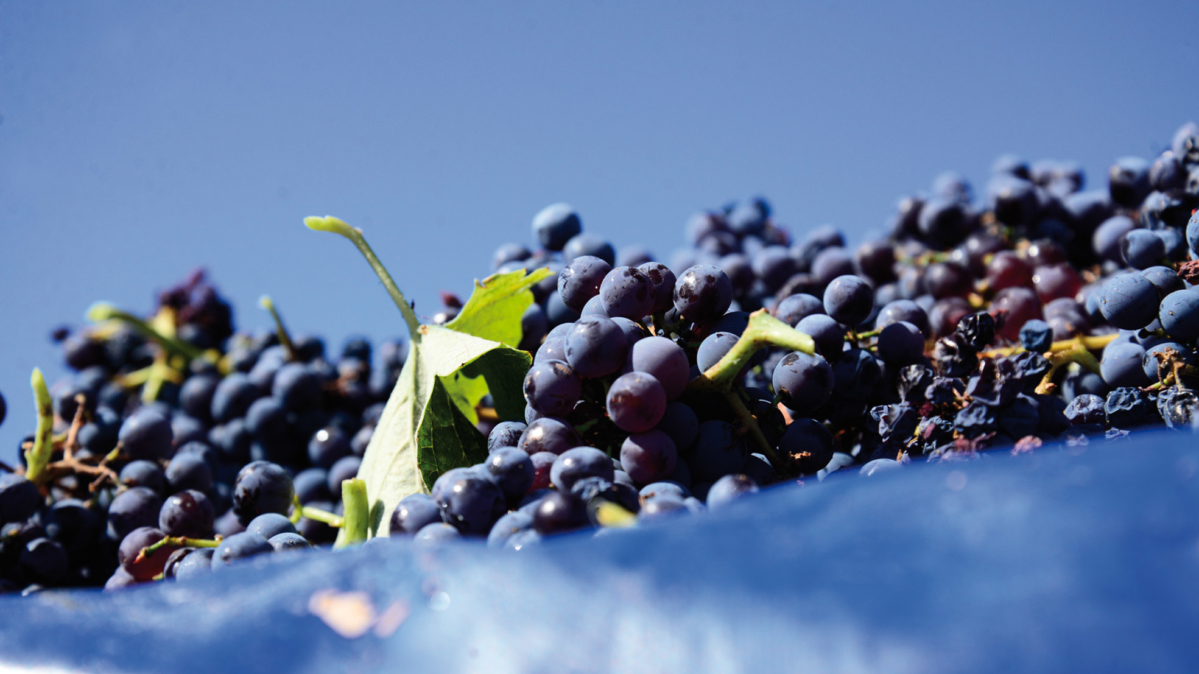Black grapes: (521, 255, 709, 481)
